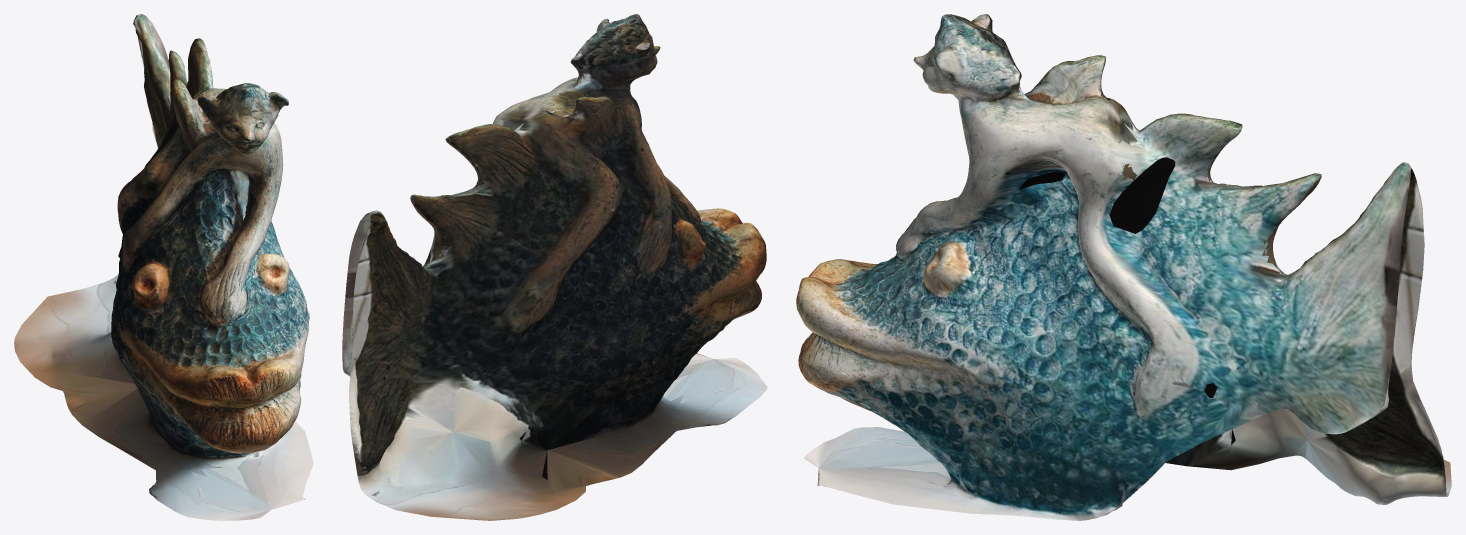
Rendered from childFish.glb.
3 views of the same model, side by side, from view 1: azimuth 30°, elevation 25°; view 2: azimuth 150°, elevation 25°; view 3: azimuth 270°, elevation 25° (orthographic). The views are drawn at different scales.
Visible parts, largest first — view 1: childFish; view 2: childFish; view 3: childFish.
Part boxes in pixels (<box>): childFish: <box>14,14,313,520</box>; childFish: <box>342,14,767,520</box>; childFish: <box>796,14,1451,520</box>.
Size of the model in its own units: 8.6 by 14.58 by 18.05.
Materials: 3 (2 with a texture image).
